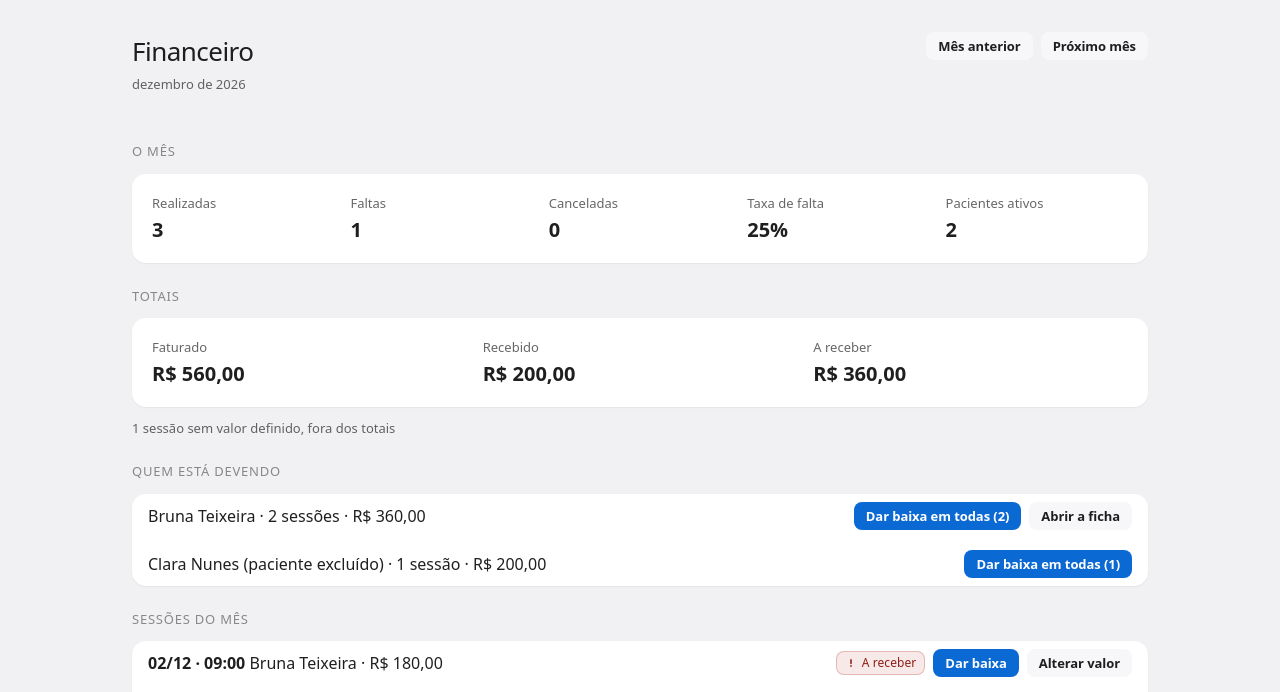
Test: tela Financeiro › lote recusado mostra a mensagem do servidor na linha do devedor
Click the button "Dar baixa em todas (2)" at (938, 516), box [854,502,1021,530]
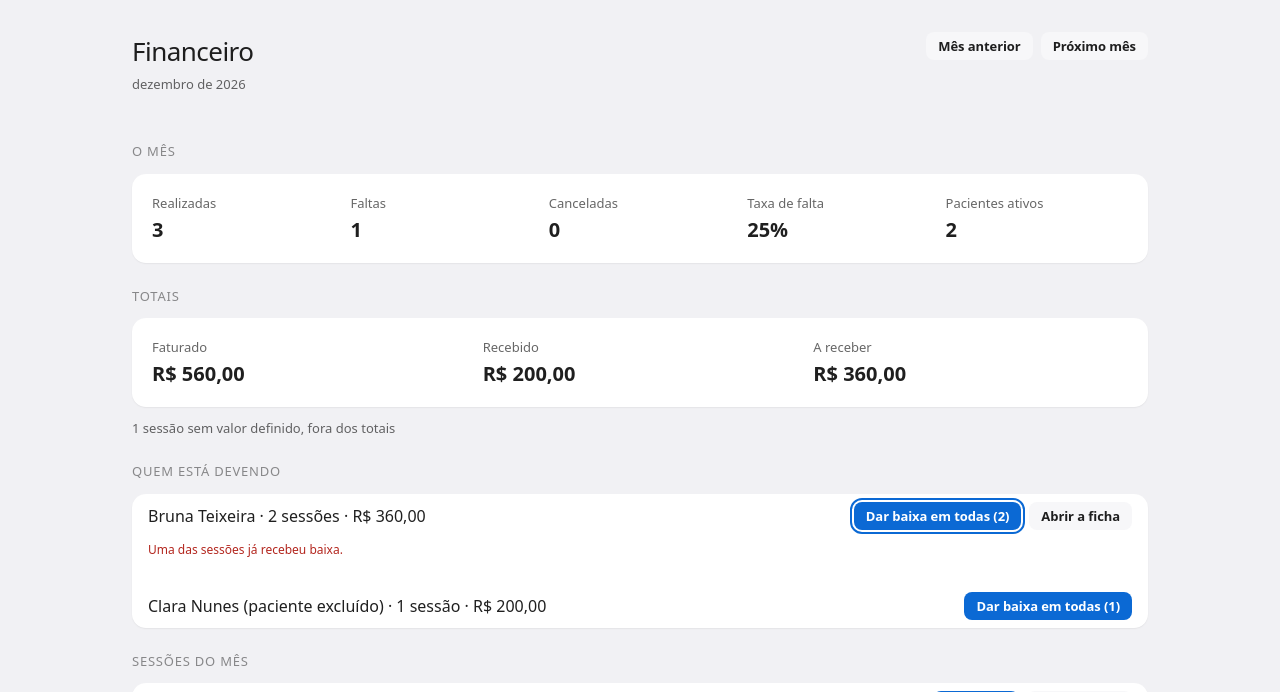
Now the message reads "Uma das sessões já recebeu baixa.", box [148,540,343,558]
